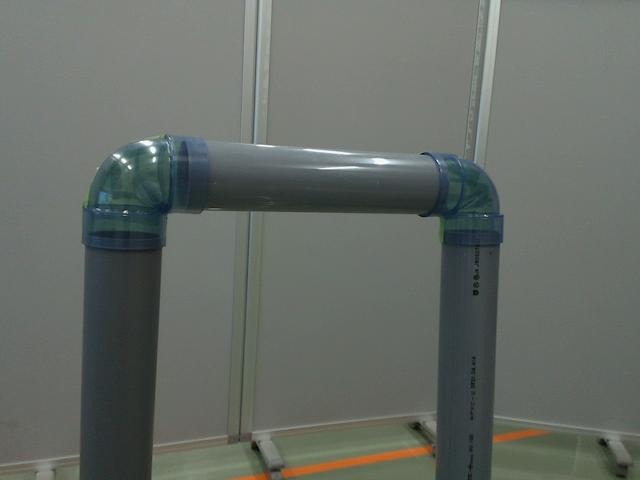bent: (82, 135, 208, 254), (414, 150, 505, 245)
